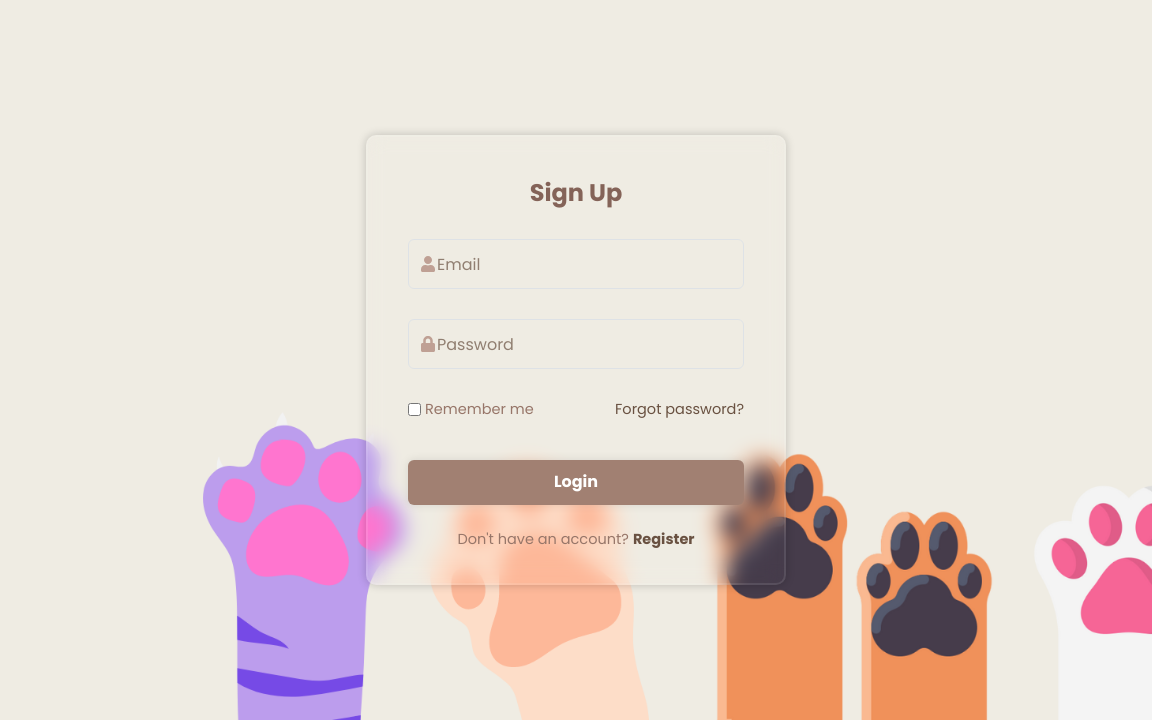
Scenario: Login Component › Should show password validation error
The image size is (1152, 720).
In the field with placeholder "Email": (576, 264) [408,239,744,289], type "test@example.com"
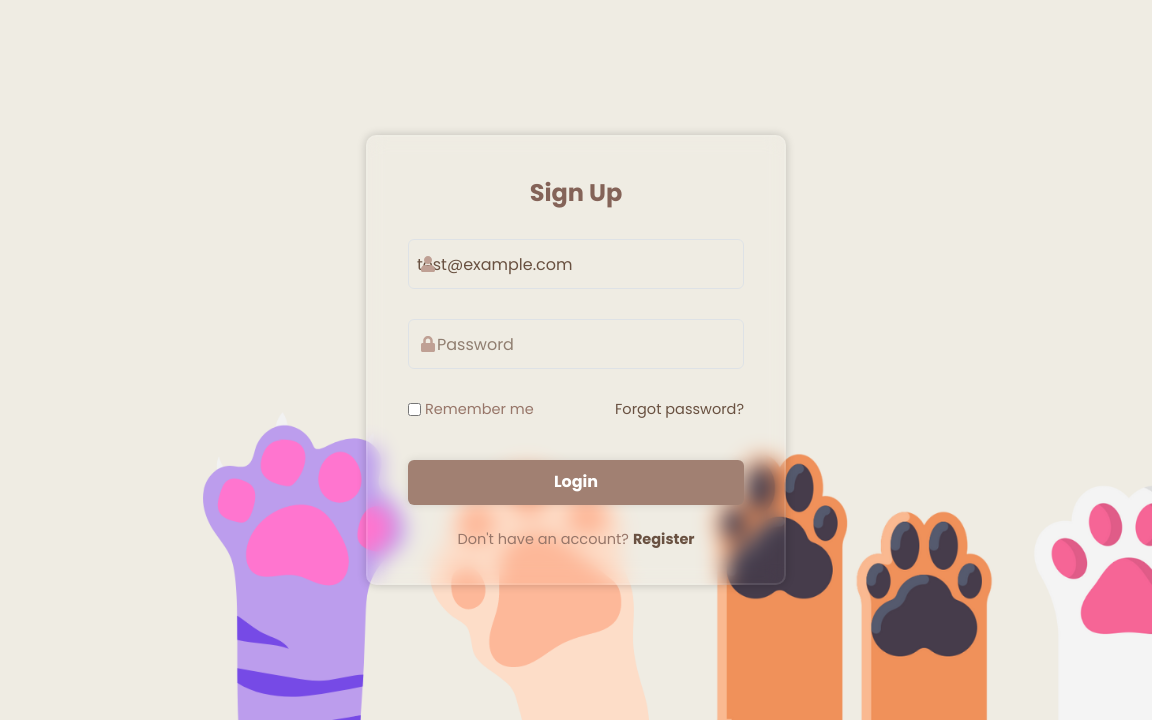
Click the button "Login": (576, 482) [408,460,744,505]
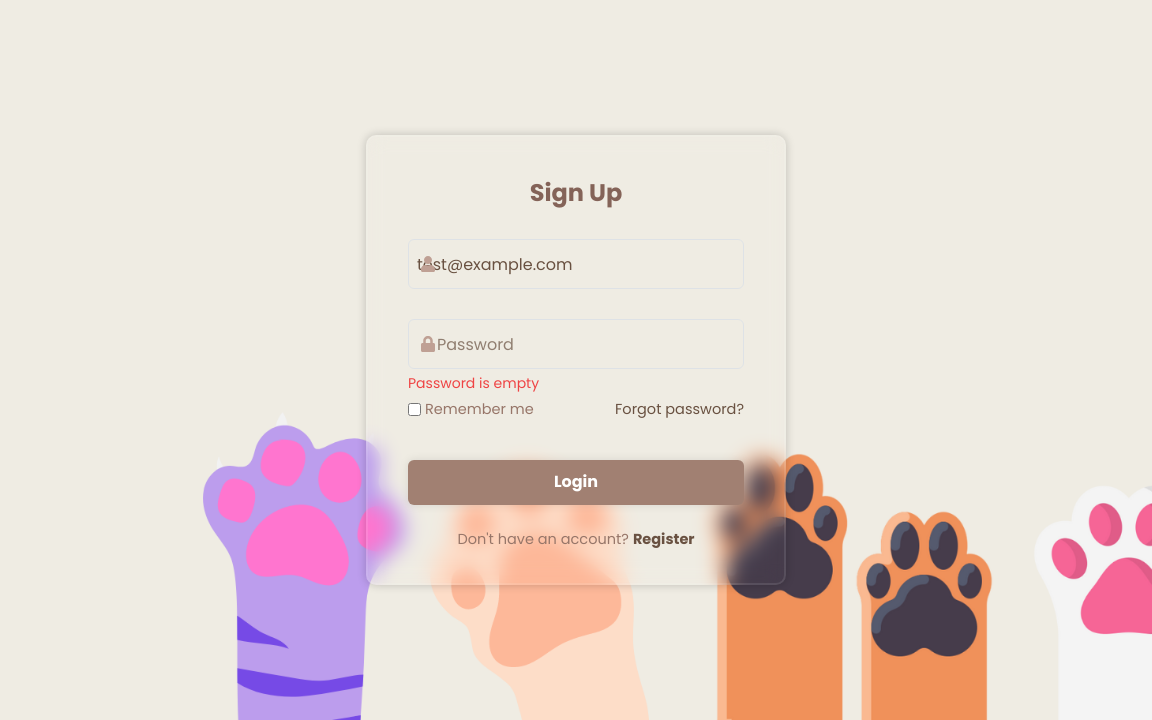
Result: the text "Password is empty" is shown at [408,373,539,393]
